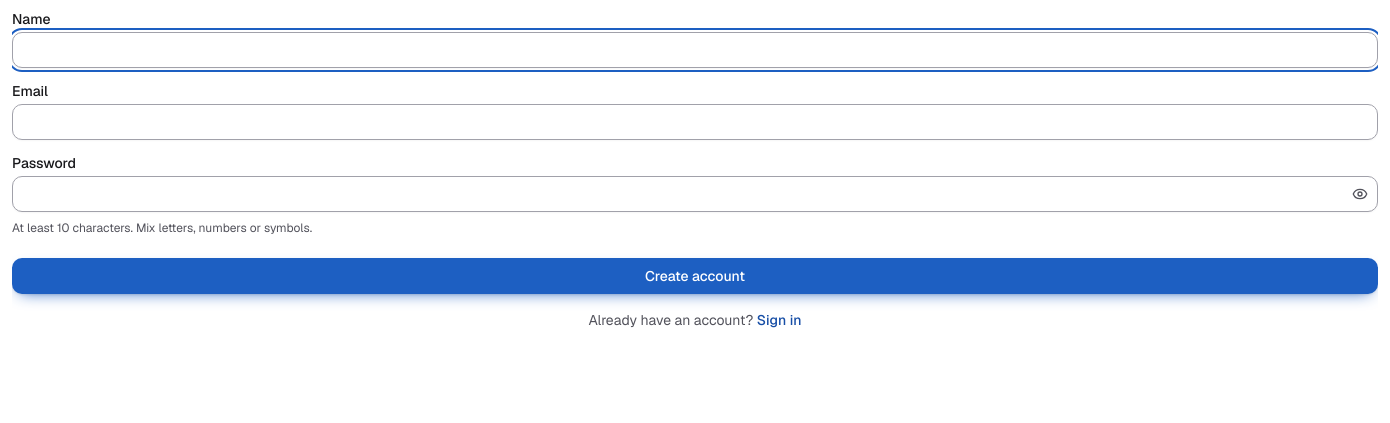
Scenario: RegisterForm › requires every field
Step 1. Click the button "Create account" → coordinates (695, 276), box top-left (12, 258), bottom-right (1378, 294)
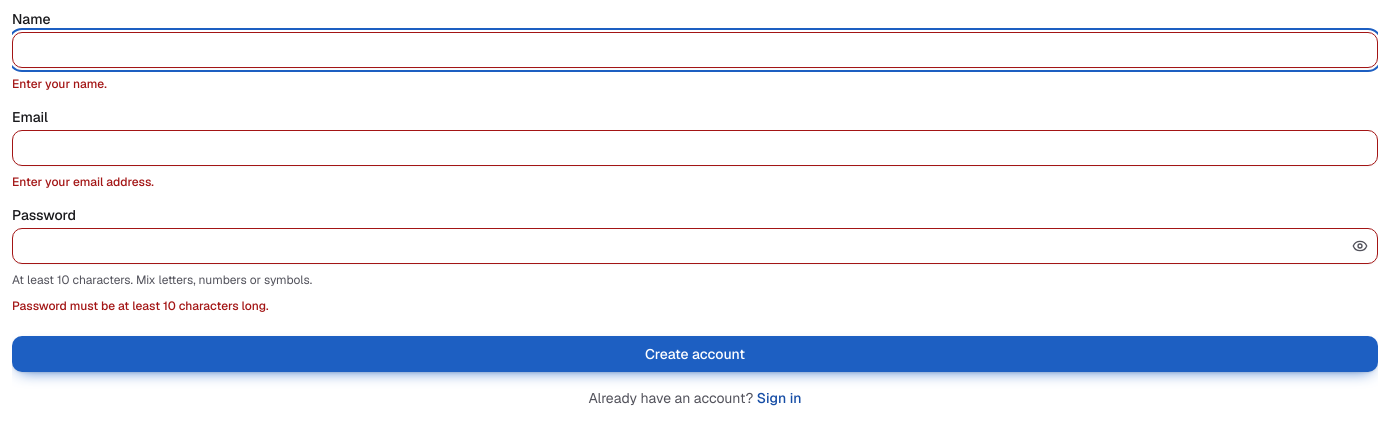
Now the text "Enter your name." is shown, box top-left (12, 76), bottom-right (107, 92)
Now the text "Enter your email address." is shown, box top-left (12, 174), bottom-right (154, 190)
Now the text "Password must be at least 10 characters long." is shown, box top-left (12, 298), bottom-right (269, 314)
